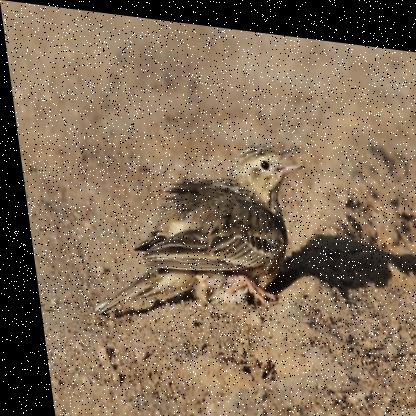Burung: (65, 115, 321, 336)
